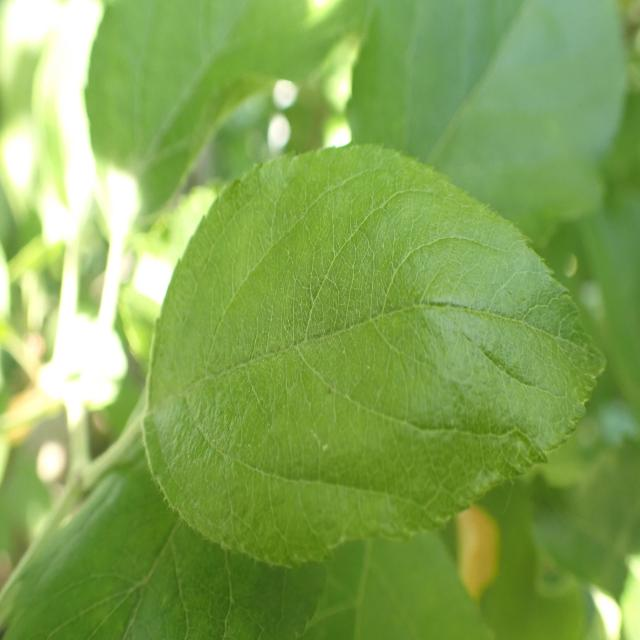healthy: (144, 142, 607, 570), (1, 443, 496, 640)
